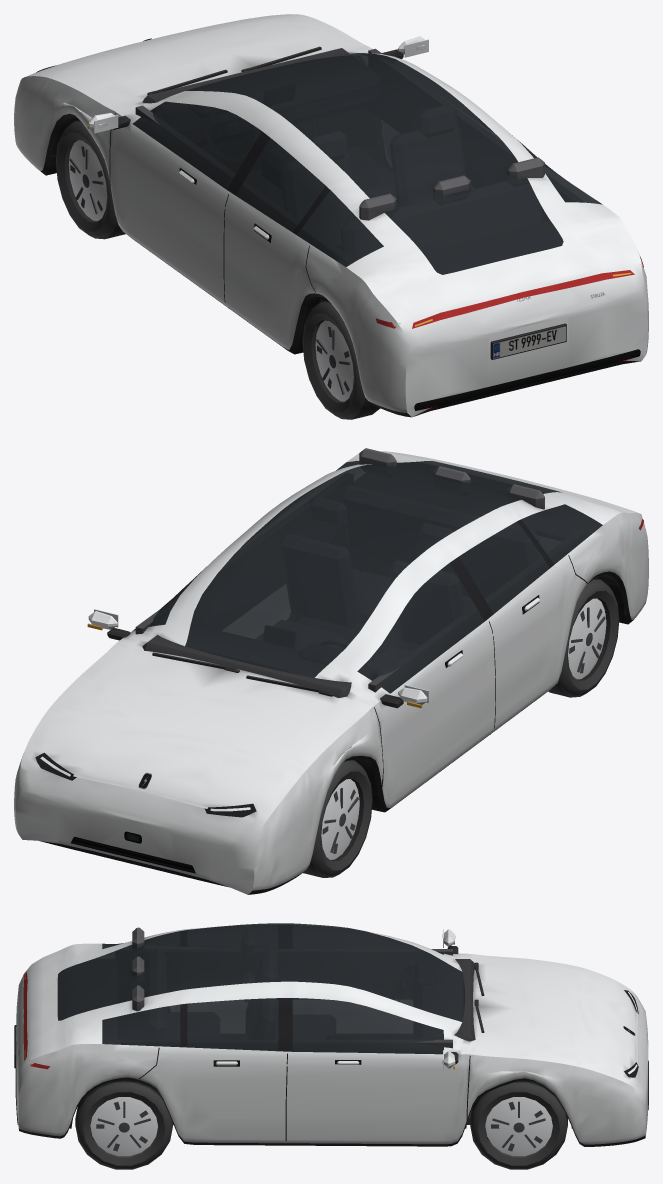
Rendered from tesna.glb.
The picture shows the model from 3 angles, top to bottom: view 1: azimuth 30°, elevation 25°; view 2: azimuth 150°, elevation 25°; view 3: azimuth 270°, elevation 25°; orthographic projection. The views are drawn at different scales.
Visible parts, largest first — view 1: body, wheelmesh_2, wheelmesh_0; view 2: body, wheelmesh_0, wheelmesh_2; view 3: body, wheelmesh_3, wheelmesh_1.
Boxes of the visible parts, box(x1,y1,x2,y2) form: body: box(14, 14, 648, 417); wheelmesh_2: box(302, 300, 379, 419); wheelmesh_0: box(56, 120, 125, 239); body: box(14, 448, 648, 894); wheelmesh_0: box(303, 760, 372, 877); wheelmesh_2: box(548, 578, 619, 697); body: box(14, 923, 648, 1146); wheelmesh_3: box(75, 1081, 172, 1169); wheelmesh_1: box(470, 1081, 567, 1169).
Size of the model in its own units: 2.37 by 1.43 by 4.81.
Materials: 21 (1 with a texture image).
